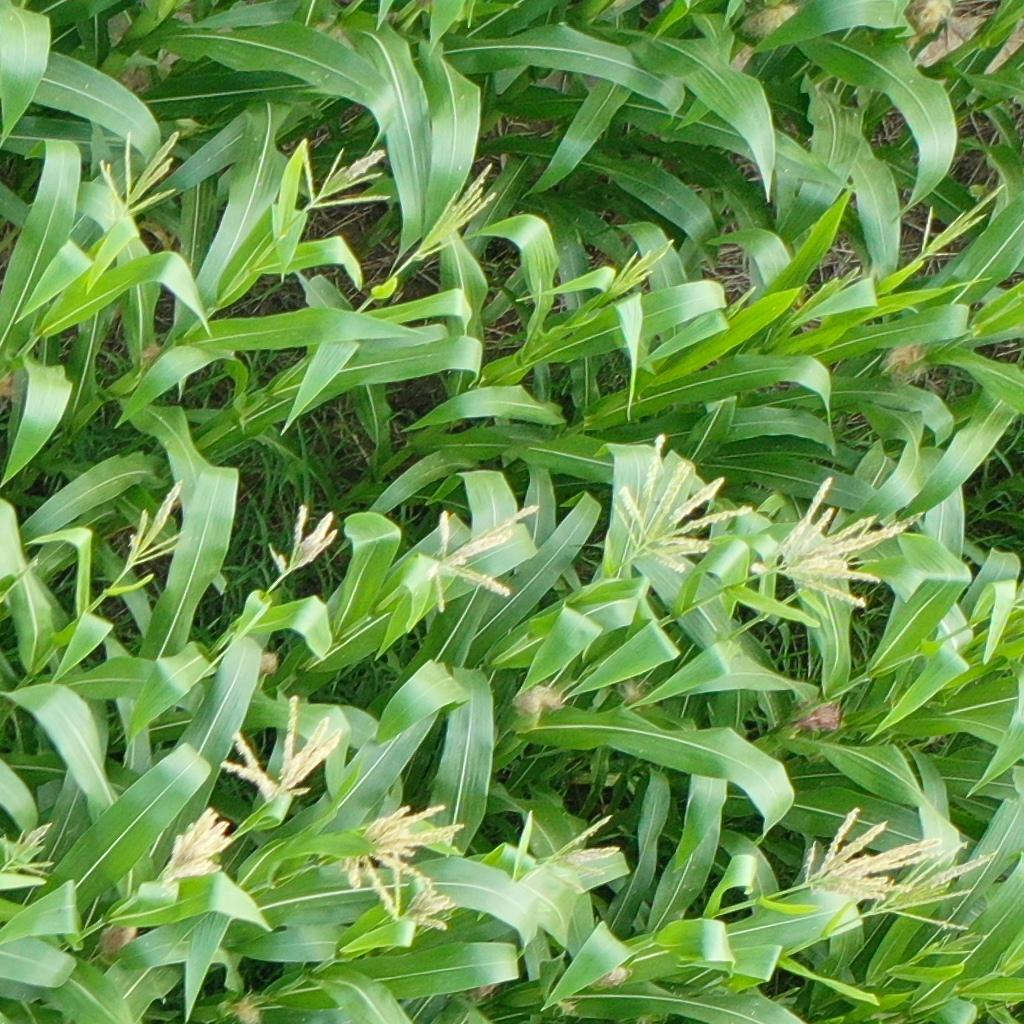Tassel: (760, 477, 924, 612), (616, 433, 754, 573), (218, 695, 343, 804), (339, 803, 462, 913), (802, 807, 941, 899), (424, 506, 539, 612), (873, 844, 997, 931), (409, 162, 499, 262), (96, 128, 182, 224), (535, 815, 623, 896), (915, 182, 1005, 257), (297, 141, 393, 210), (266, 505, 338, 588), (157, 807, 232, 884), (125, 481, 190, 569), (607, 236, 676, 305), (798, 264, 857, 322), (402, 879, 458, 938), (1, 821, 55, 877), (923, 930, 986, 960)
